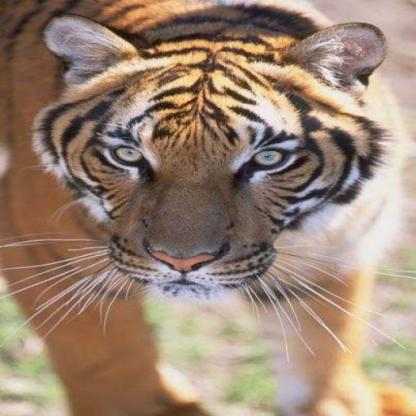Tiger: (18, 0, 398, 415)
